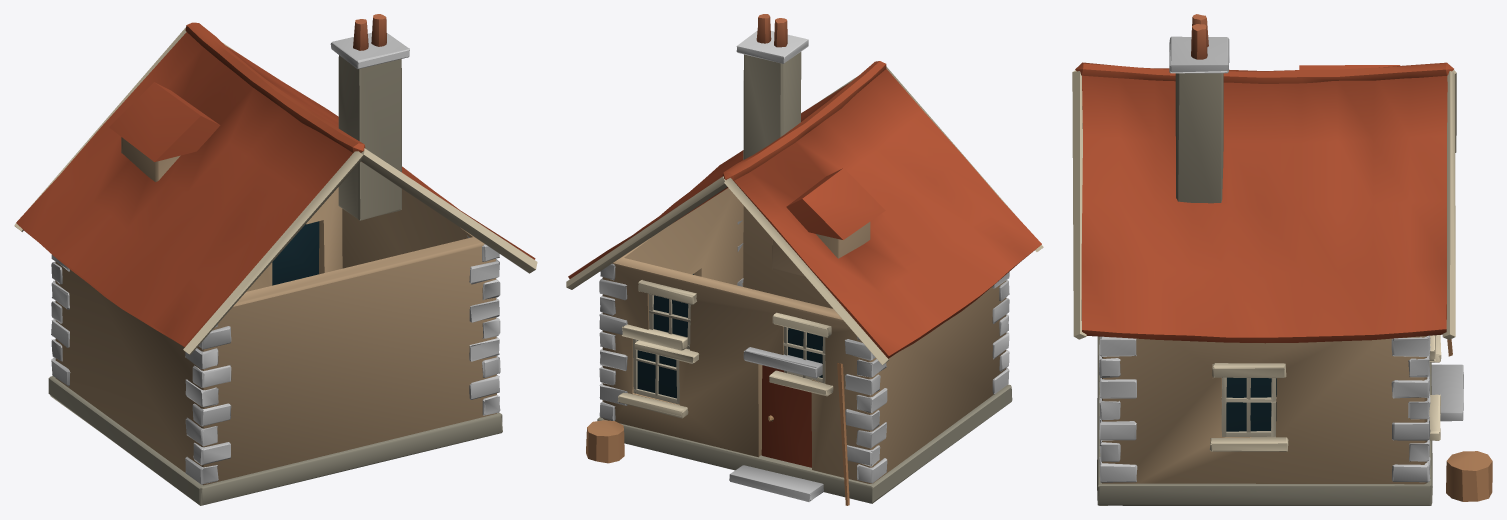
The model's file is house_1.glb.
3 views of the same model, side by side, from view 1: azimuth 30°, elevation 25°; view 2: azimuth 150°, elevation 25°; view 3: azimuth 270°, elevation 25° (orthographic). The views are drawn at different scales.
Parts seen in each view (by area): view 1: house_1; view 2: house_1; view 3: house_1.
Part boxes in pixels (x1,y1,x2,y2): house_1: (14, 14, 537, 505); house_1: (566, 14, 1043, 505); house_1: (1072, 14, 1492, 505).
Size of the model in its own units: 5.78 by 6.27 by 5.43.
